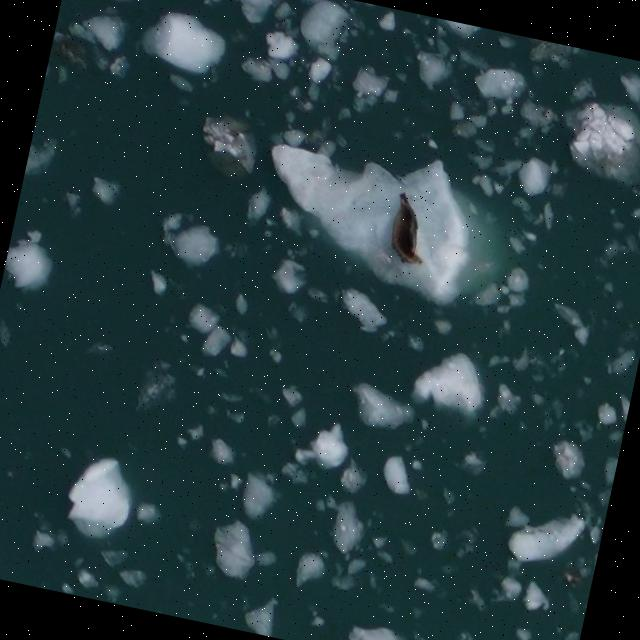seal: (385, 190, 424, 268)
